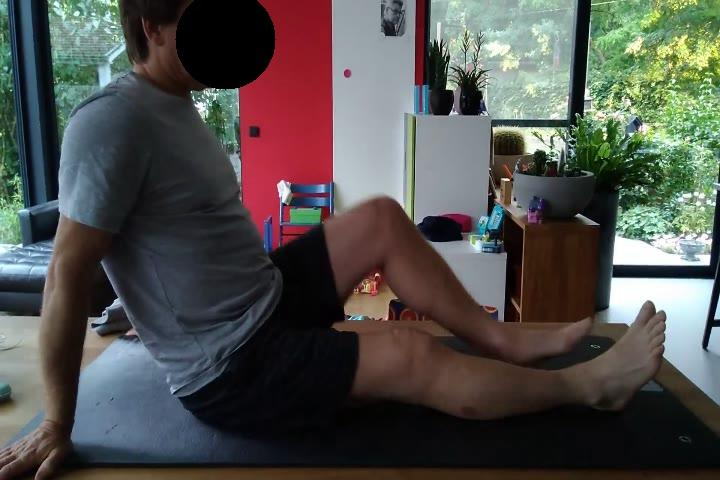lower_body: (178, 193, 669, 433)
